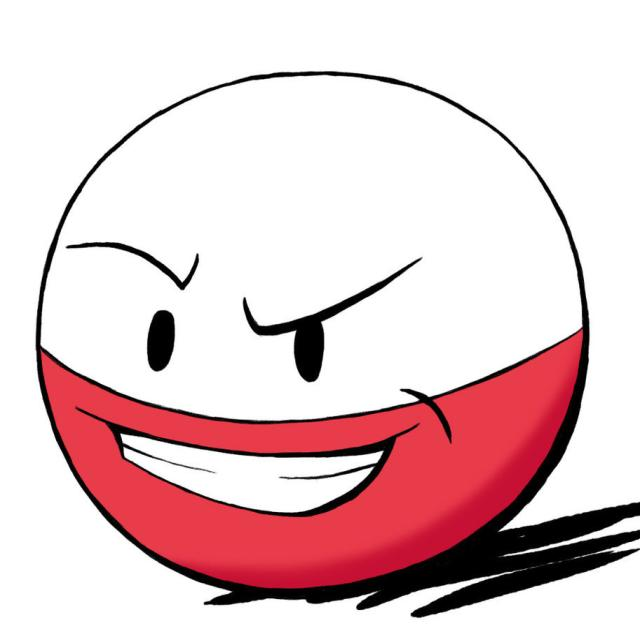Electrode: (27, 61, 591, 595)
